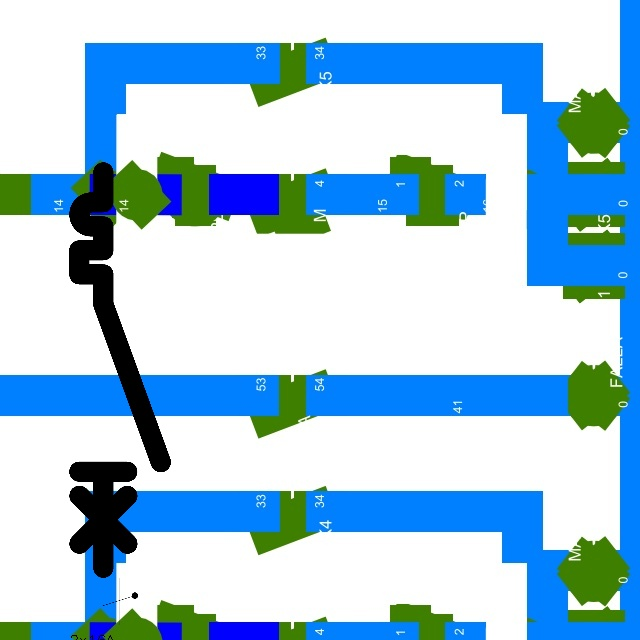interruptor_termomagnetico: (69, 162, 170, 577)
